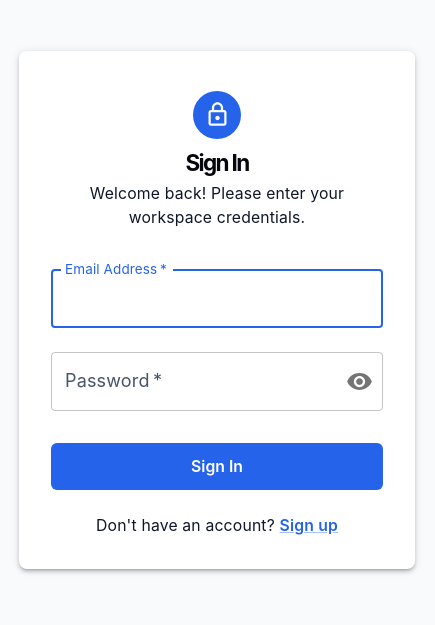
Test case: LoginPage Component › displays API error alert when login fails
Type "wrong@example.com" into the field labelled "Email Address *" at (217, 299), box [51, 269, 383, 328]
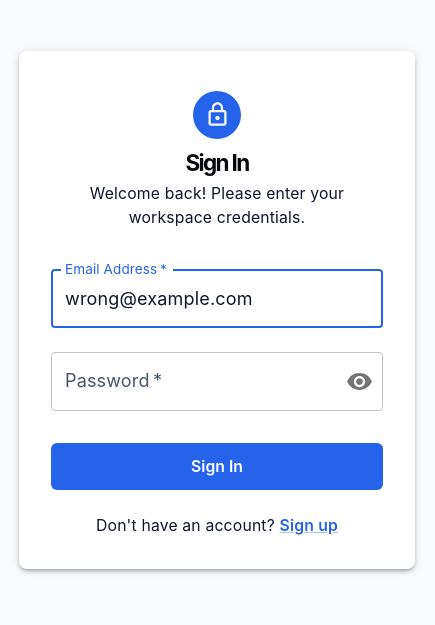
Type "wrongpassword" into the password field labelled "Password *" at (190, 382), box [51, 352, 330, 411]
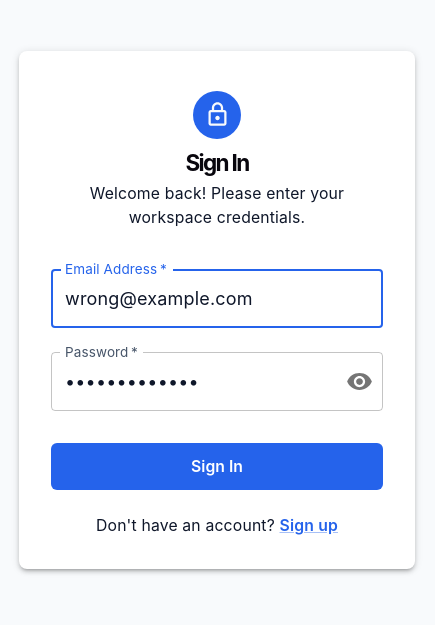
Click the button "Sign In" at (217, 466), box [51, 443, 383, 490]
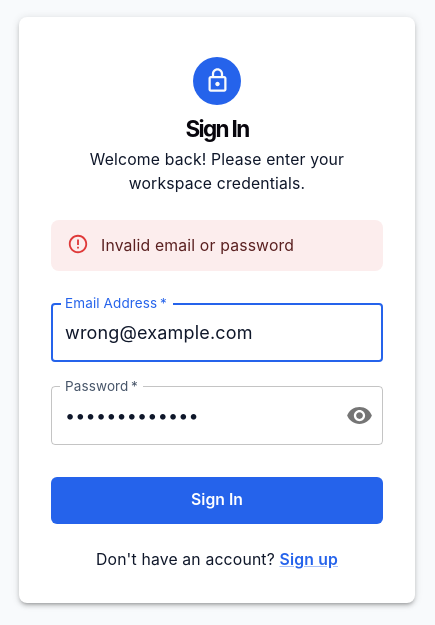
Now the text "Invalid email or password" is shown, box [101, 236, 294, 254]
